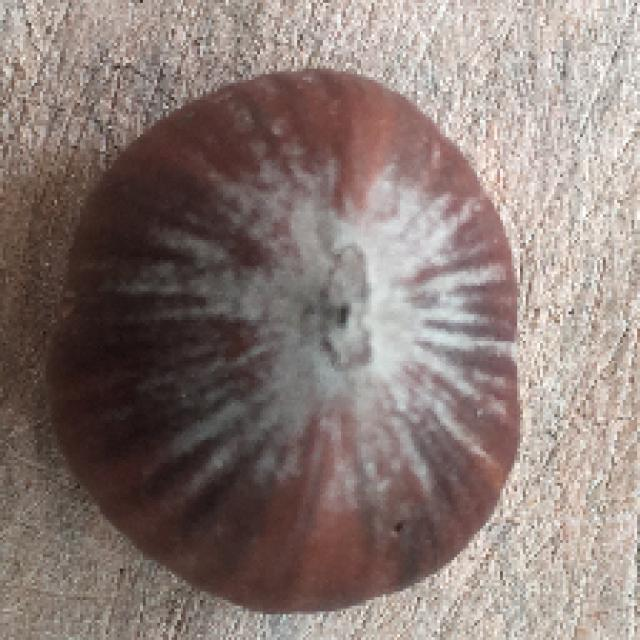qualityHazelnut: (57, 71, 521, 601)
